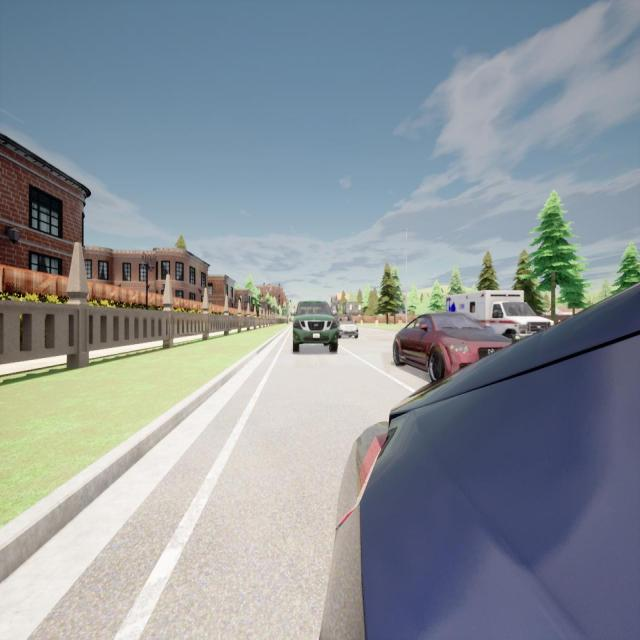Vehicle: (320, 284, 640, 637), (393, 313, 511, 380), (443, 290, 554, 334), (290, 298, 337, 353), (338, 314, 358, 339)
